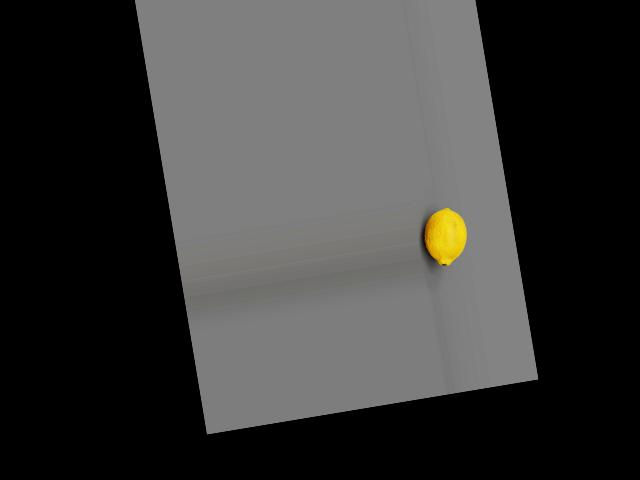lemon: (420, 203, 474, 268)
